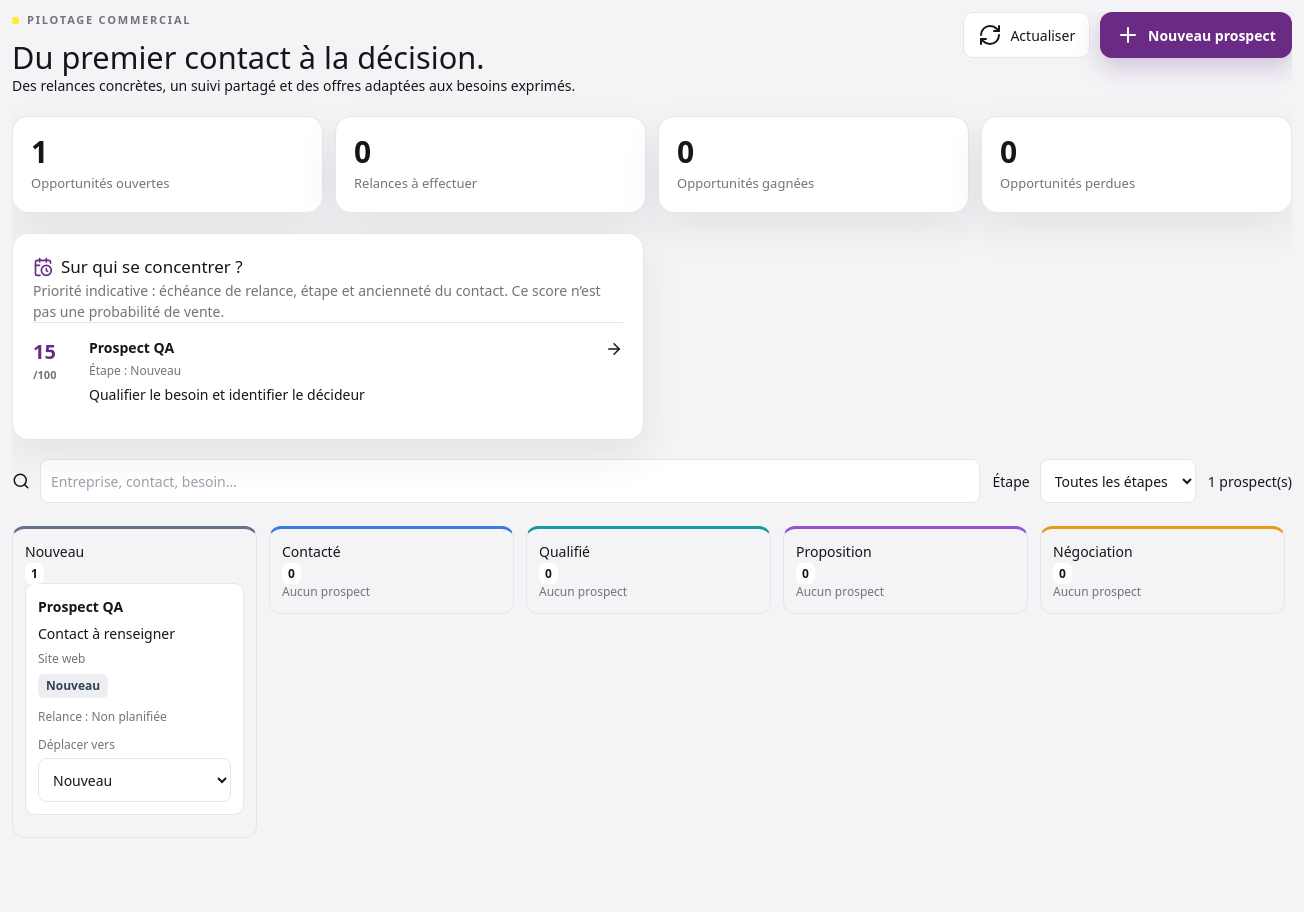
Test: parcours commercial et droits › ne déplace pas visuellement une carte si le serveur refuse
The width and height of the screenshot is (1304, 912).
Select "Perdu" in the dropdown named "Étape de Prospect QA" at (134, 780), box [38,758,231,802]
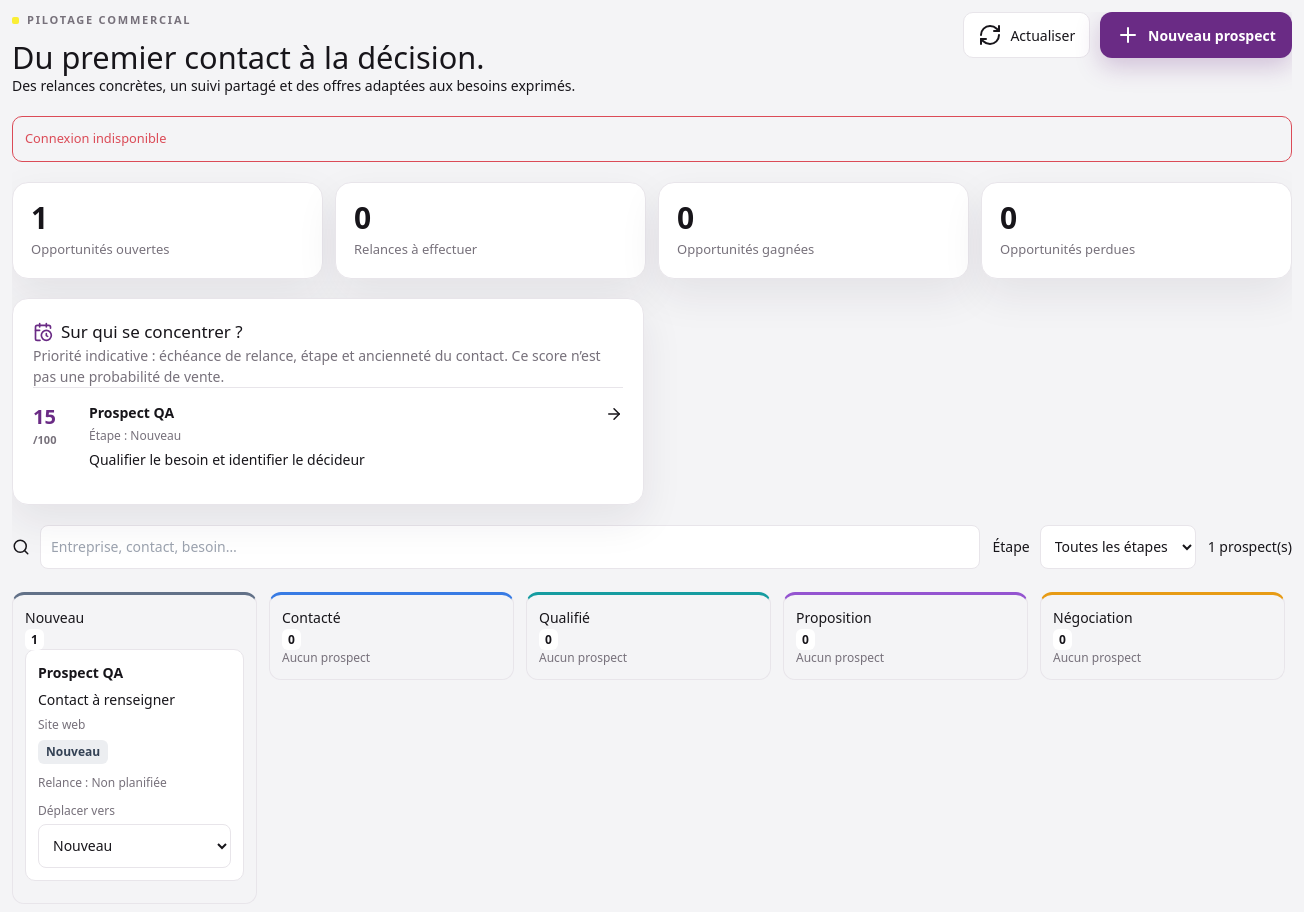
Now the message "Connexion indisponible" is shown, box [12,116,1292,162]
